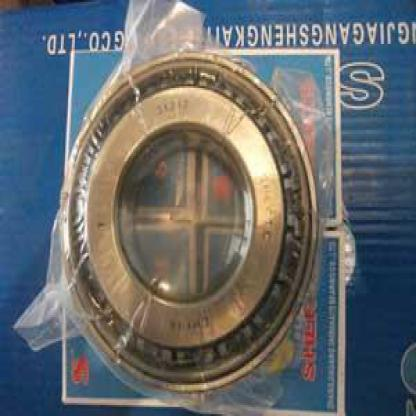FOD: (63, 55, 322, 388)
